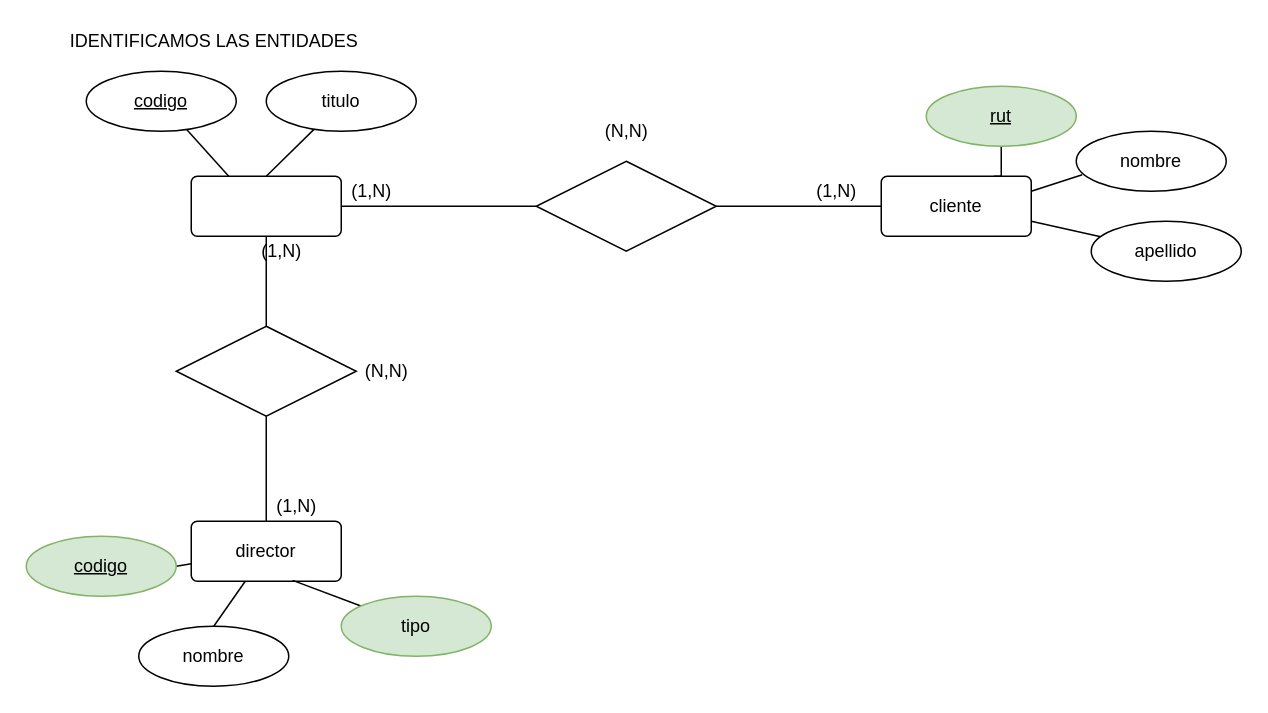
This 1268x713 diagram has some shape labels left out. Here are the shapes that lost their labels. From the top down, the centre of each, then its label:
At point 265,205: "pelicula".
At point 625,205: "alquila".
At point 265,370: "tiene".
